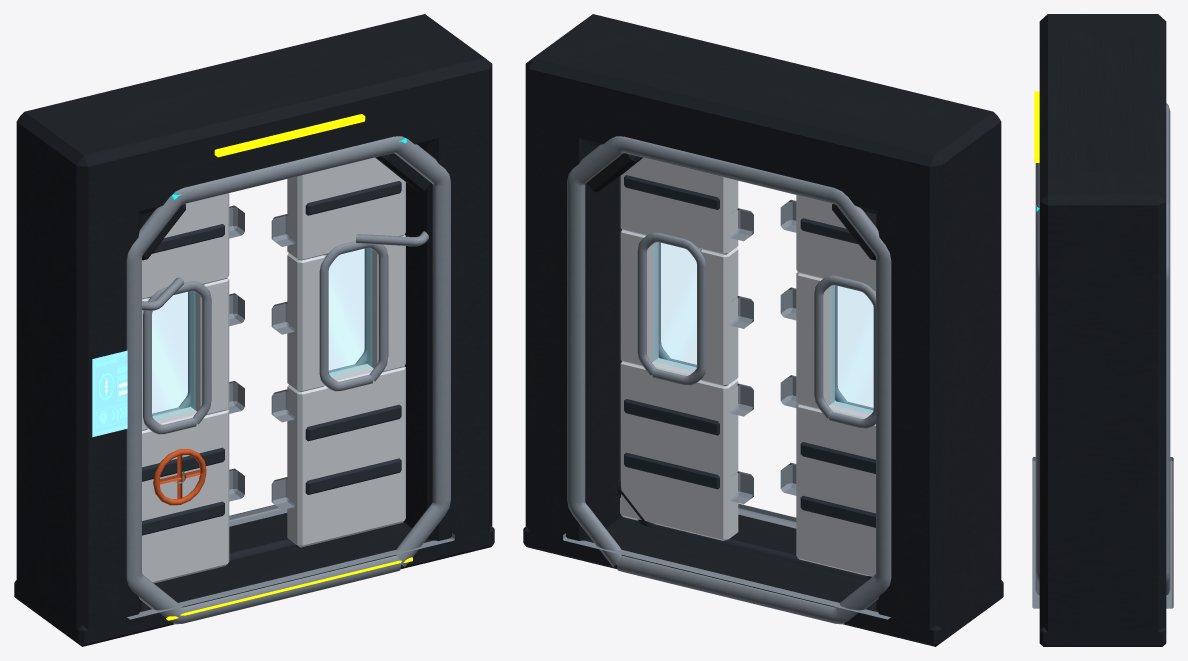
Rendered from corridor_door_r1_03.glb.
3 renders of one model, left to right at view 1: azimuth 30°, elevation 25°; view 2: azimuth 150°, elevation 25°; view 3: azimuth 270°, elevation 25°, orthographic. The views are drawn at different scales.
Parts seen in each view (by area): view 1: Corridor03_SubmarineGunmetalBulkhead, Corridor03_WhitePlugDoorHalves, Corridor03_SwingArmsAndRadialDogs, Corridor03_TranslucentPlugPortholes, Corridor03_CarbonSlatePlugRibs, Corridor03_LeftFrameOLEDStatus, Corridor03_AmberThresholdLED, Corridor03_SignalOrangeSpiderWheel; view 2: Corridor03_SubmarineGunmetalBulkhead, Corridor03_WhitePlugDoorHalves, Corridor03_SwingArmsAndRadialDogs, Corridor03_TranslucentPlugPortholes, Corridor03_CarbonSlatePlugRibs, Corridor03_CharcoalPressureSeal; view 3: Corridor03_SubmarineGunmetalBulkhead, Corridor03_SwingArmsAndRadialDogs, Corridor03_AmberThresholdLED.
Boxes of the visible parts, left/top/right/bottom form: Corridor03_SubmarineGunmetalBulkhead: left=14, top=14, right=494, bottom=646; Corridor03_WhitePlugDoorHalves: left=142, top=157, right=405, bottom=583; Corridor03_SwingArmsAndRadialDogs: left=126, top=136, right=454, bottom=624; Corridor03_TranslucentPlugPortholes: left=152, top=248, right=371, bottom=419; Corridor03_CarbonSlatePlugRibs: left=142, top=181, right=401, bottom=535; Corridor03_LeftFrameOLEDStatus: left=92, top=350, right=127, bottom=437; Corridor03_AmberThresholdLED: left=166, top=114, right=412, bottom=620; Corridor03_SignalOrangeSpiderWheel: left=153, top=449, right=206, bottom=505; Corridor03_SubmarineGunmetalBulkhead: left=523, top=14, right=1003, bottom=646; Corridor03_WhitePlugDoorHalves: left=620, top=157, right=875, bottom=576; Corridor03_SwingArmsAndRadialDogs: left=563, top=136, right=891, bottom=624; Corridor03_TranslucentPlugPortholes: left=654, top=243, right=872, bottom=413; Corridor03_CarbonSlatePlugRibs: left=624, top=175, right=875, bottom=527; Corridor03_CharcoalPressureSeal: left=617, top=176, right=871, bottom=580; Corridor03_SubmarineGunmetalBulkhead: left=1039, top=14, right=1166, bottom=646; Corridor03_SwingArmsAndRadialDogs: left=1032, top=103, right=1173, bottom=608; Corridor03_AmberThresholdLED: left=1034, top=91, right=1039, bottom=162.
Size of the model in its own units: 2.45 by 2.75 by 0.78.
10 materials, 10 textured.
